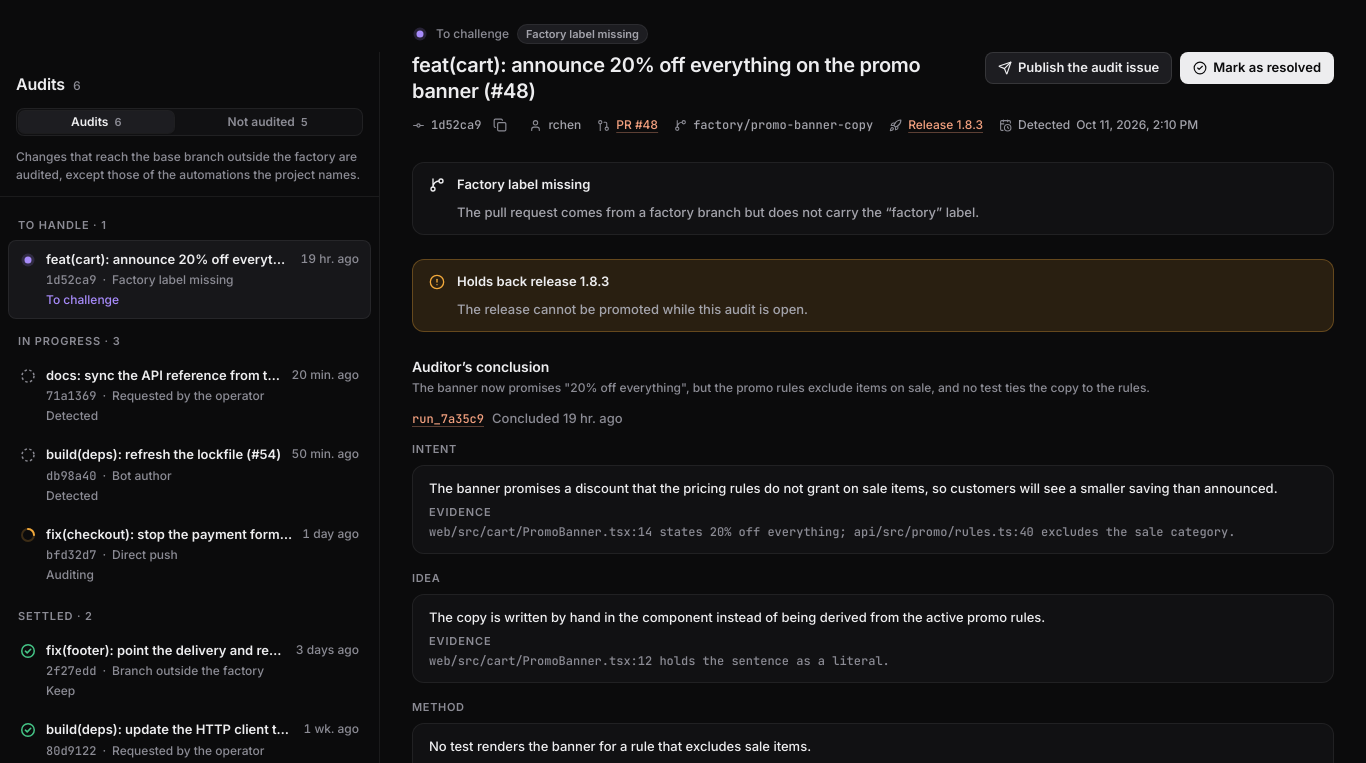
Test: AuditsView changes not audited › lists the changes the project records without an audit, the most recent first
Click the radio button labelled "Not audited 5". click: (268, 122)
box: [176,111,360,133]
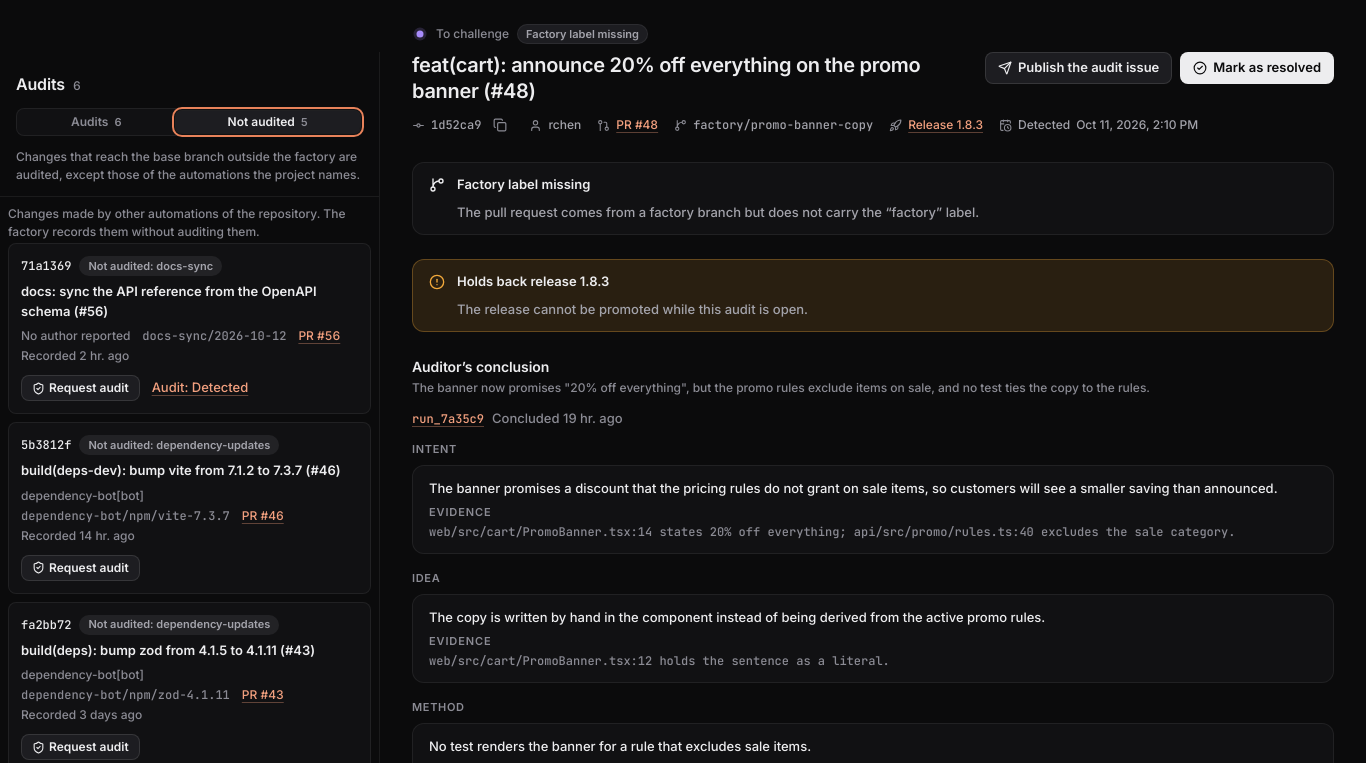
Now the radio button with aria-label "5 changes not audited" is checked, box [176,111,360,133]
Now the text "To handle" is gone
